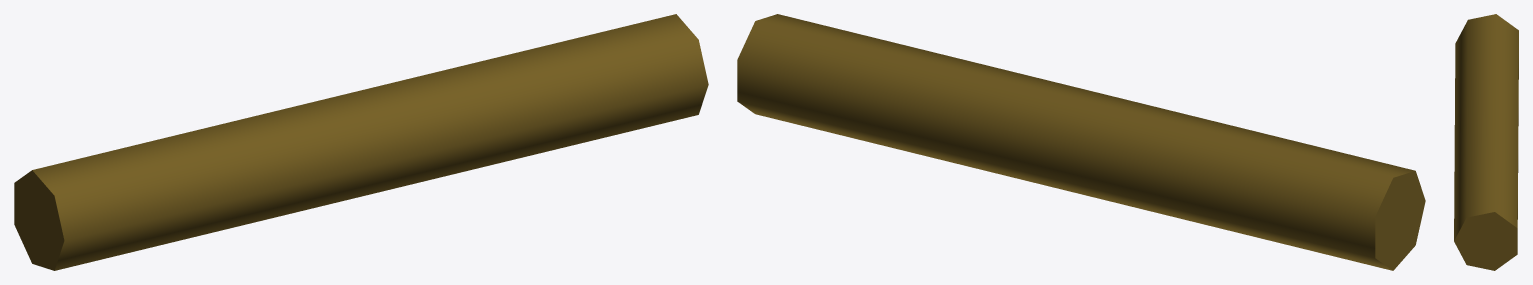
The model's file is wooden_beam.fbx.
3 views of the same model, side by side, from view 1: azimuth 30°, elevation 25°; view 2: azimuth 150°, elevation 25°; view 3: azimuth 270°, elevation 25° (orthographic). The views are drawn at different scales.
Parts seen in each view (by area): view 1: pref_wood_beam; view 2: pref_wood_beam; view 3: pref_wood_beam.
Boxes of the visible parts, x1,y1,x2,y2 form: pref_wood_beam: (14, 14, 708, 270); pref_wood_beam: (737, 14, 1425, 270); pref_wood_beam: (1454, 14, 1518, 270).
Bounding box in the file's own units: 350 × 48.75 × 48.58.
